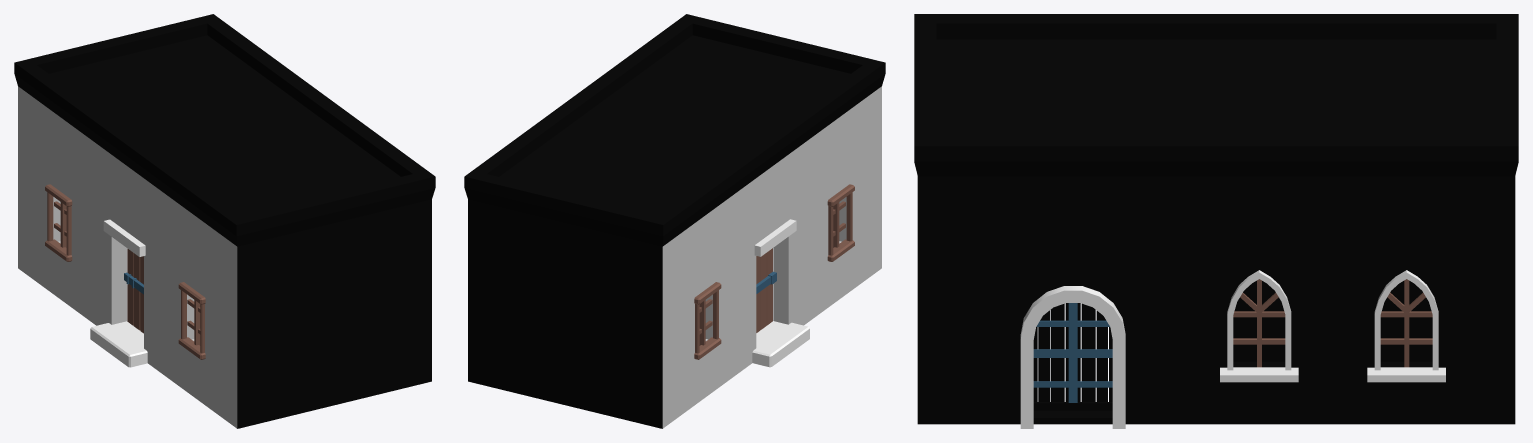
Rendered from CivilianHouse05.fbx.
3 views of the same model, side by side, from view 1: azimuth 30°, elevation 25°; view 2: azimuth 150°, elevation 25°; view 3: azimuth 270°, elevation 25° (orthographic). The views are drawn at different scales.
Parts seen in each view (by area): view 1: civilian_house_38_a; view 2: civilian_house_38_a; view 3: civilian_house_38_a.
Boxes of the visible parts, x1,y1,x2,y2 form: civilian_house_38_a: (14, 14, 435, 428); civilian_house_38_a: (464, 14, 885, 428); civilian_house_38_a: (914, 14, 1518, 428).
Size of the model in its own units: 591 by 516 by 1012.
